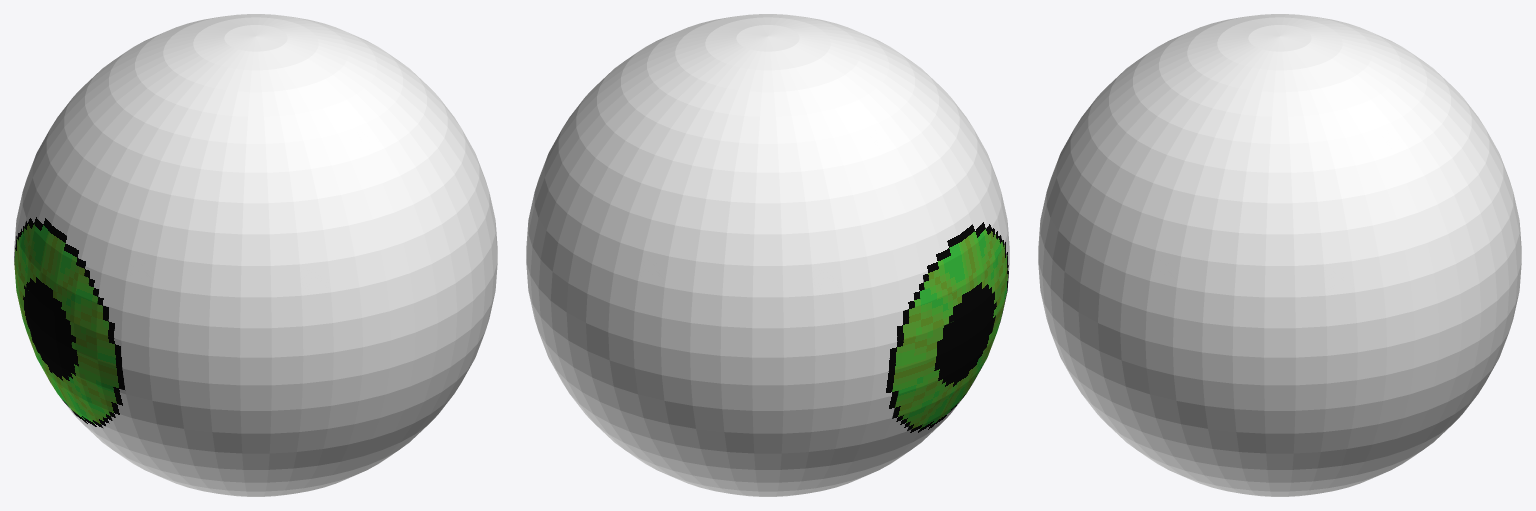
The model's file is Eyeball.gltf.
The picture shows the model from 3 angles, left to right: view 1: azimuth 30°, elevation 25°; view 2: azimuth 150°, elevation 25°; view 3: azimuth 270°, elevation 25°; orthographic projection.
Parts seen in each view (by area): view 1: sphere; view 2: sphere; view 3: sphere.
Boxes of the visible parts, x1=… form: sphere: x1=14, y1=14, x2=497, y2=496; sphere: x1=526, y1=14, x2=1009, y2=496; sphere: x1=1038, y1=14, x2=1521, y2=496.
Bounding box in the file's own units: 1 × 1 × 1.
Materials: 1 (1 with a texture image).
